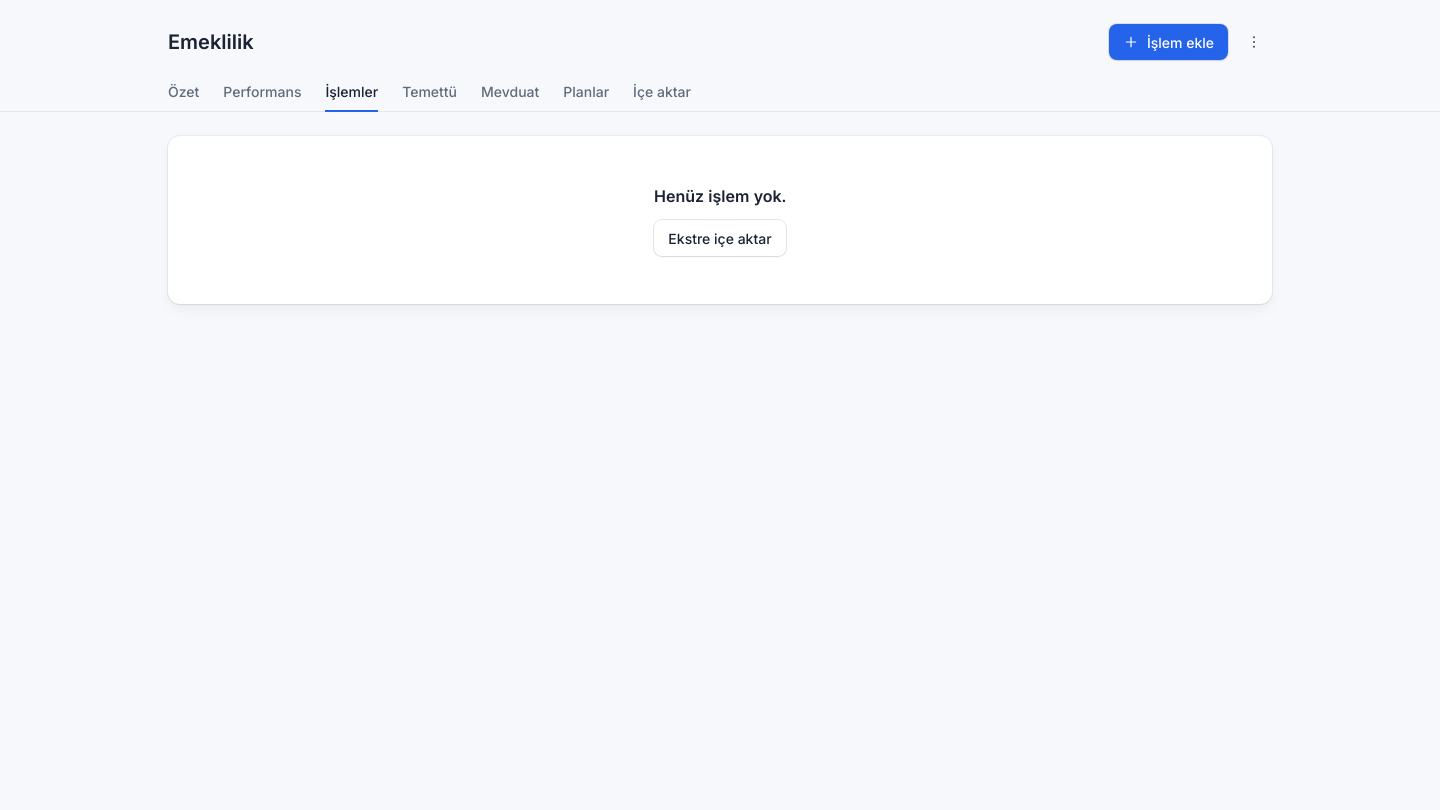
Test: TransactionsPage › submits a deposit with the selected currency
Check: the text "Henüz işlem yok." is shown, box [654,184,786,208]
Click the button "İşlem ekle" at (1168, 42), box [1109,24,1228,60]
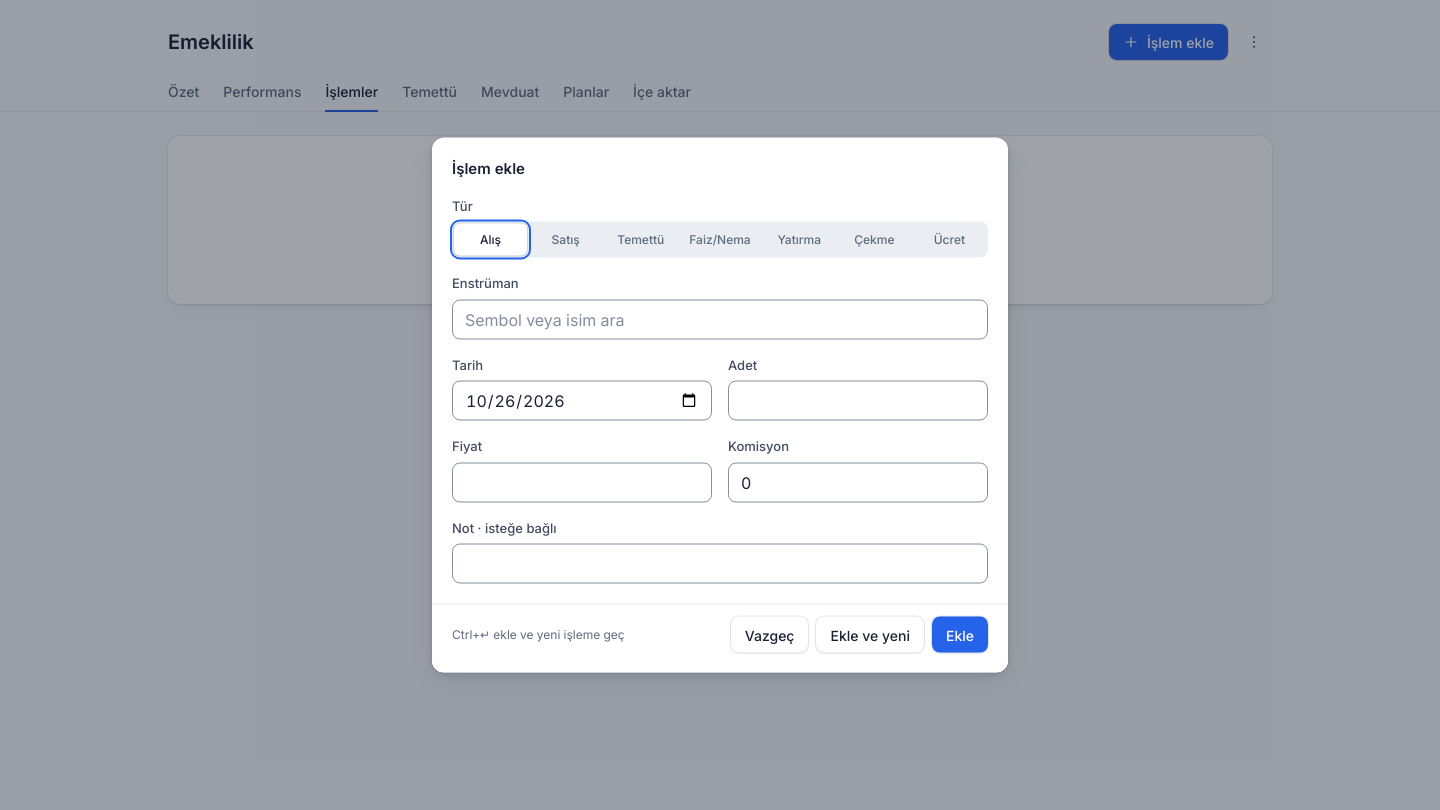
Click the radio button labelled "Yatırma" at (799, 240), box [763,224,836,256]
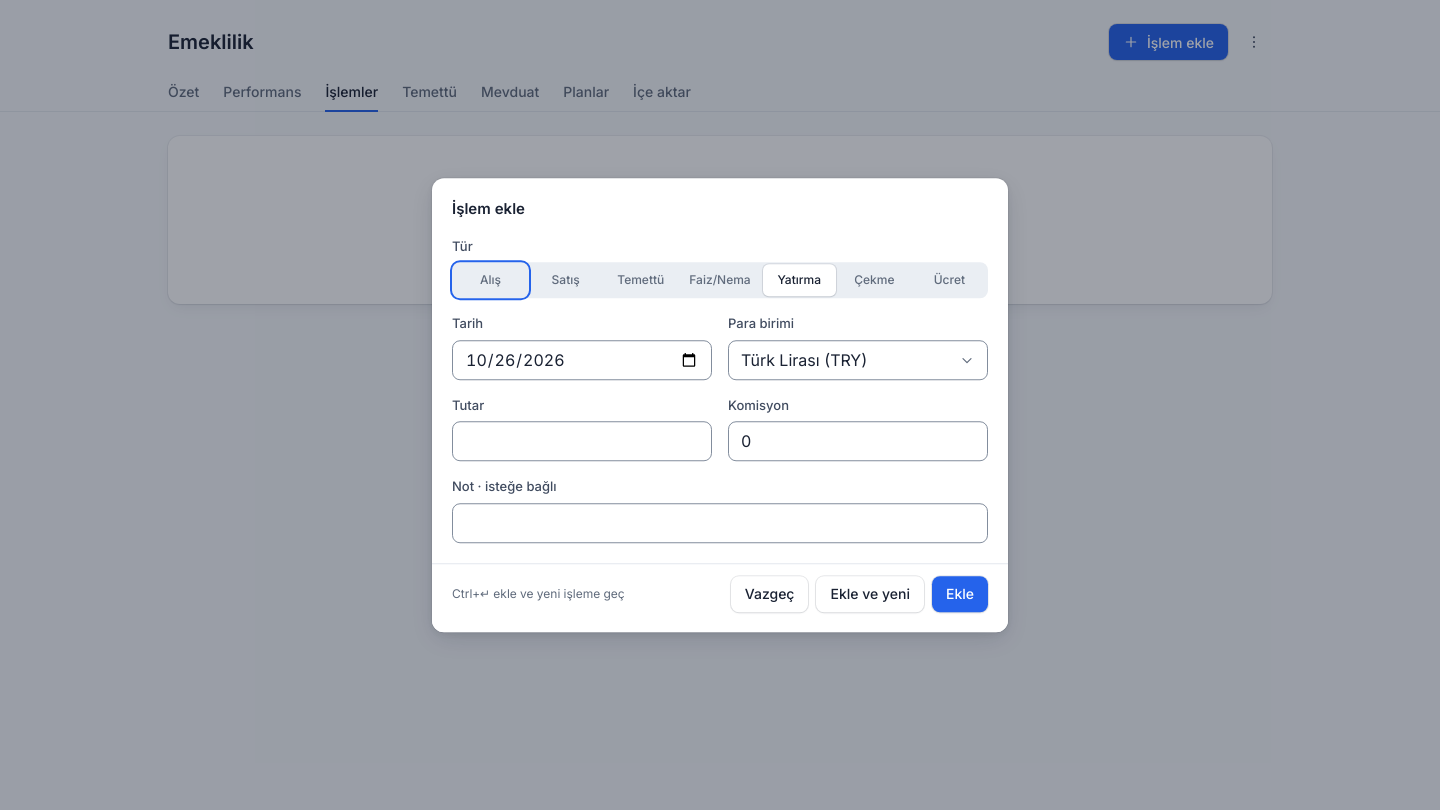
Type "500" into the field labelled "Tutar" at (582, 441), box [452,421,712,461]
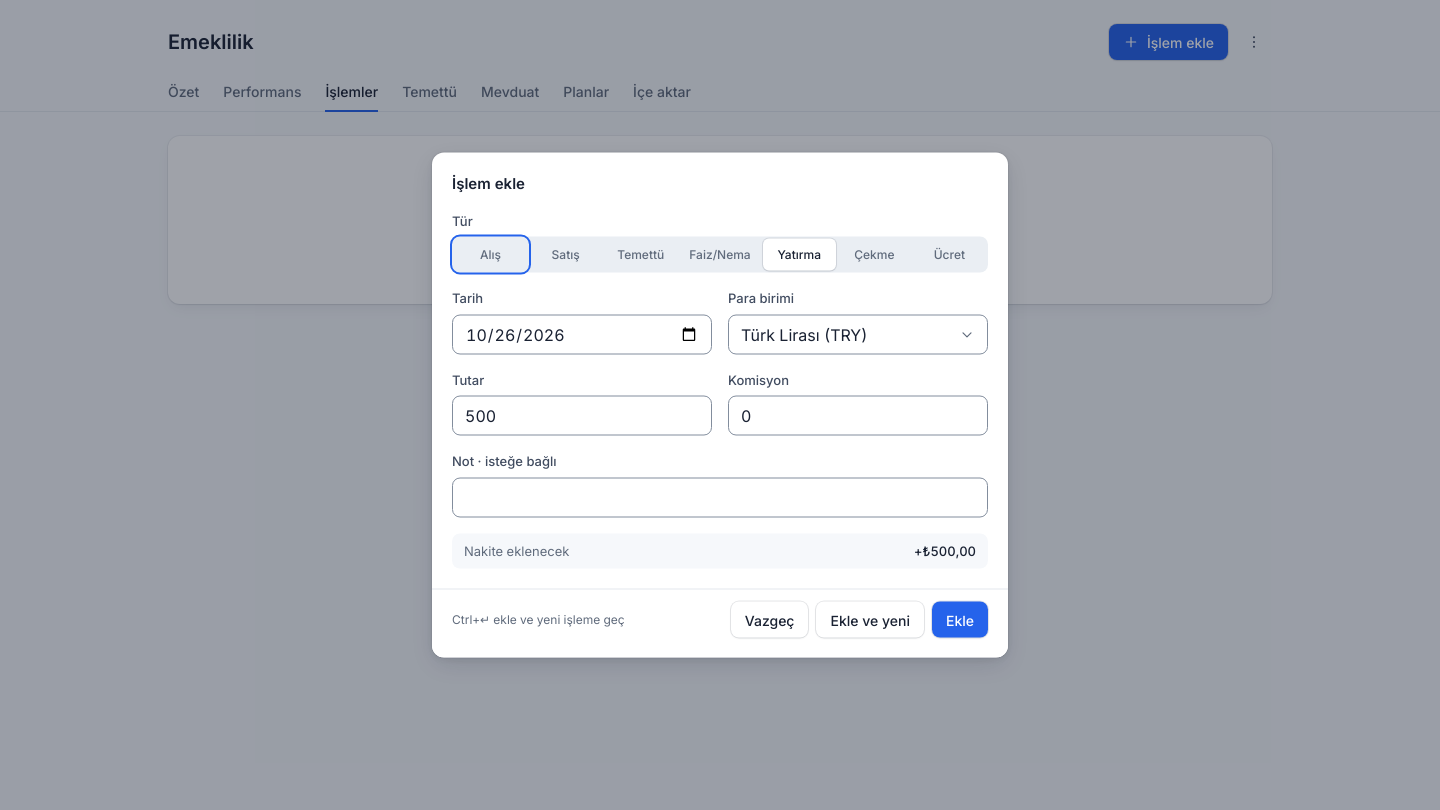
Click the dropdown named "Para birimi" at (858, 334), box [728,314,988,354]
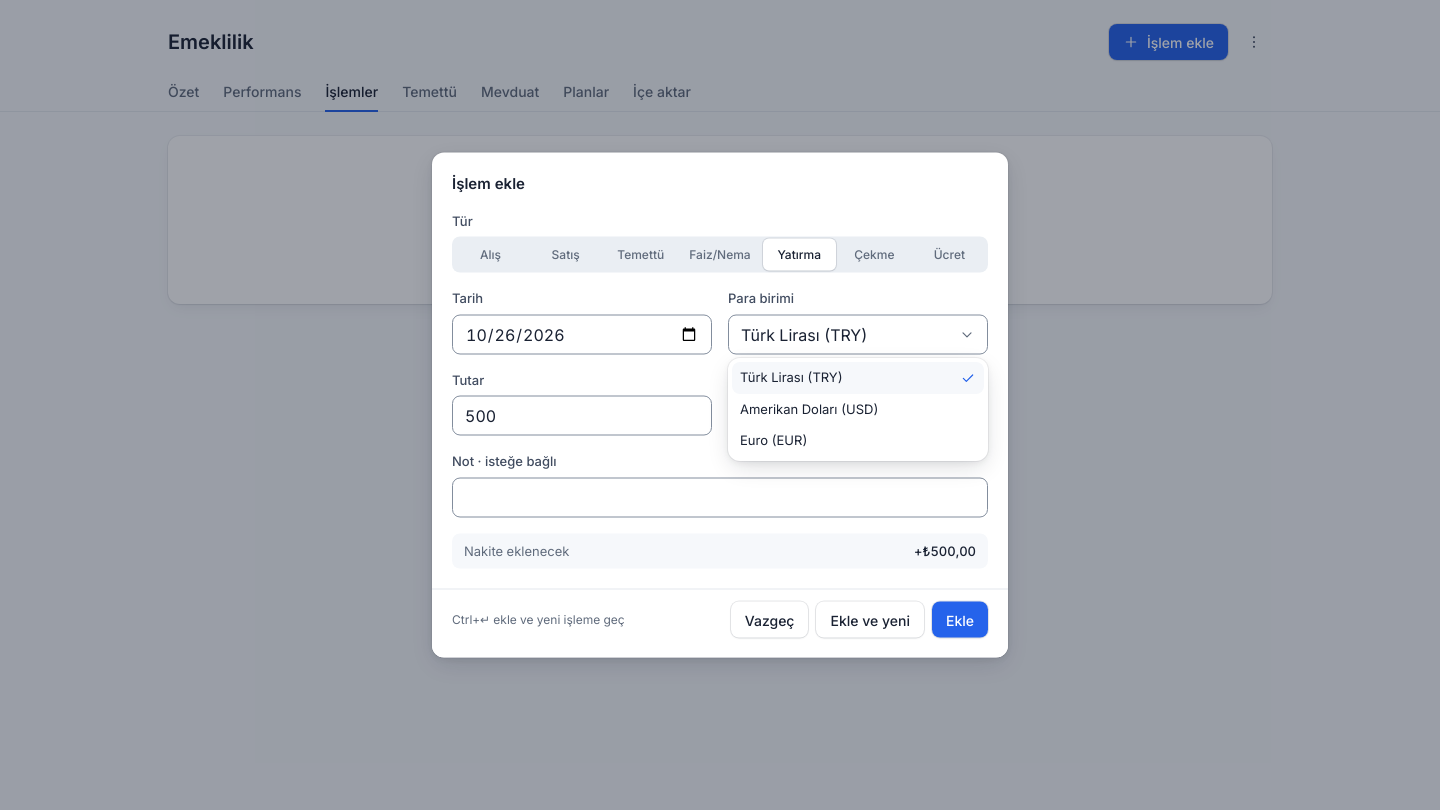
Check: the list is shown, box [732,362,984,456]
Click the option "Amerikan Doları (USD)" at (809, 408), box [740,400,879,416]
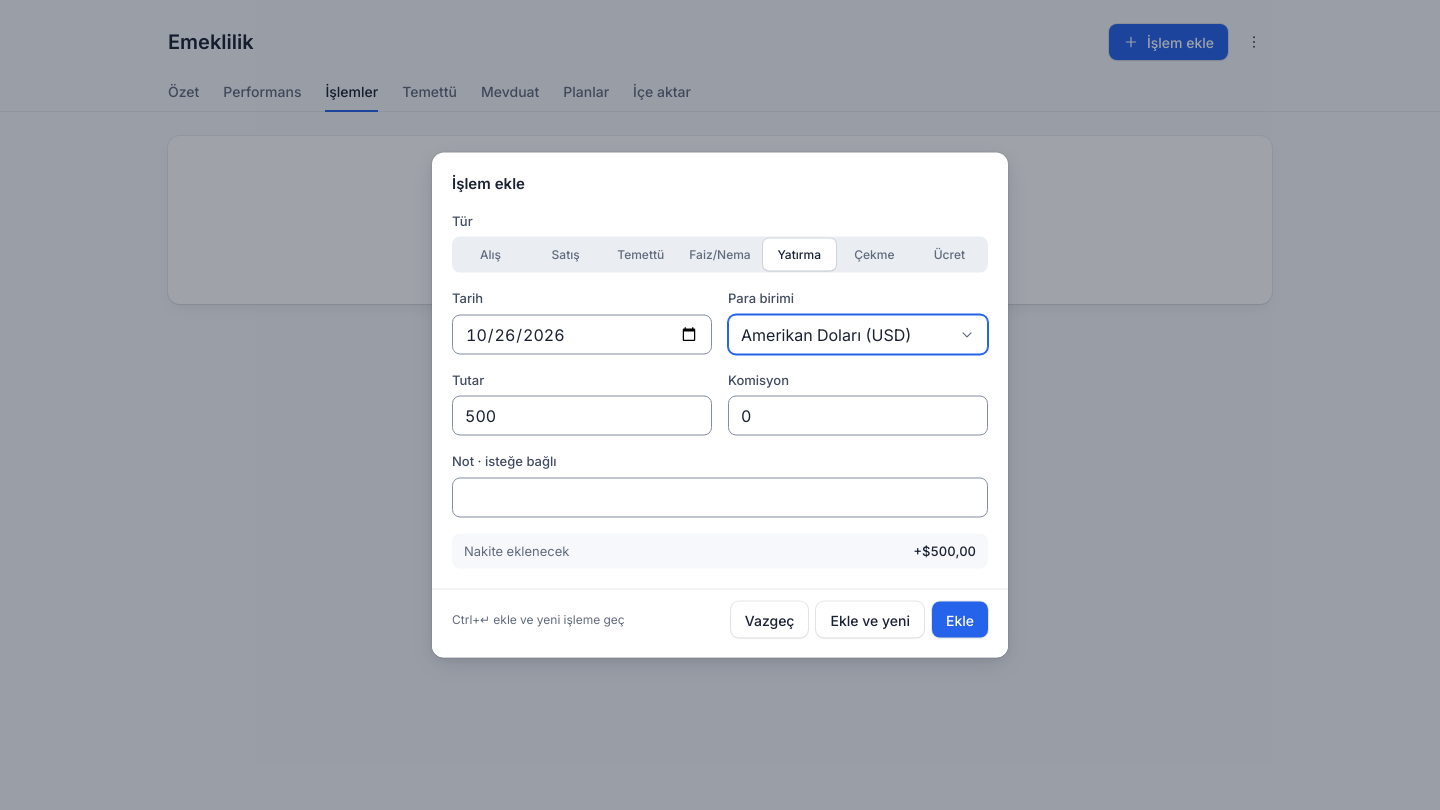
Check: the list is gone
Press Enter in the field labelled "Tutar", box [452,396,712,436]
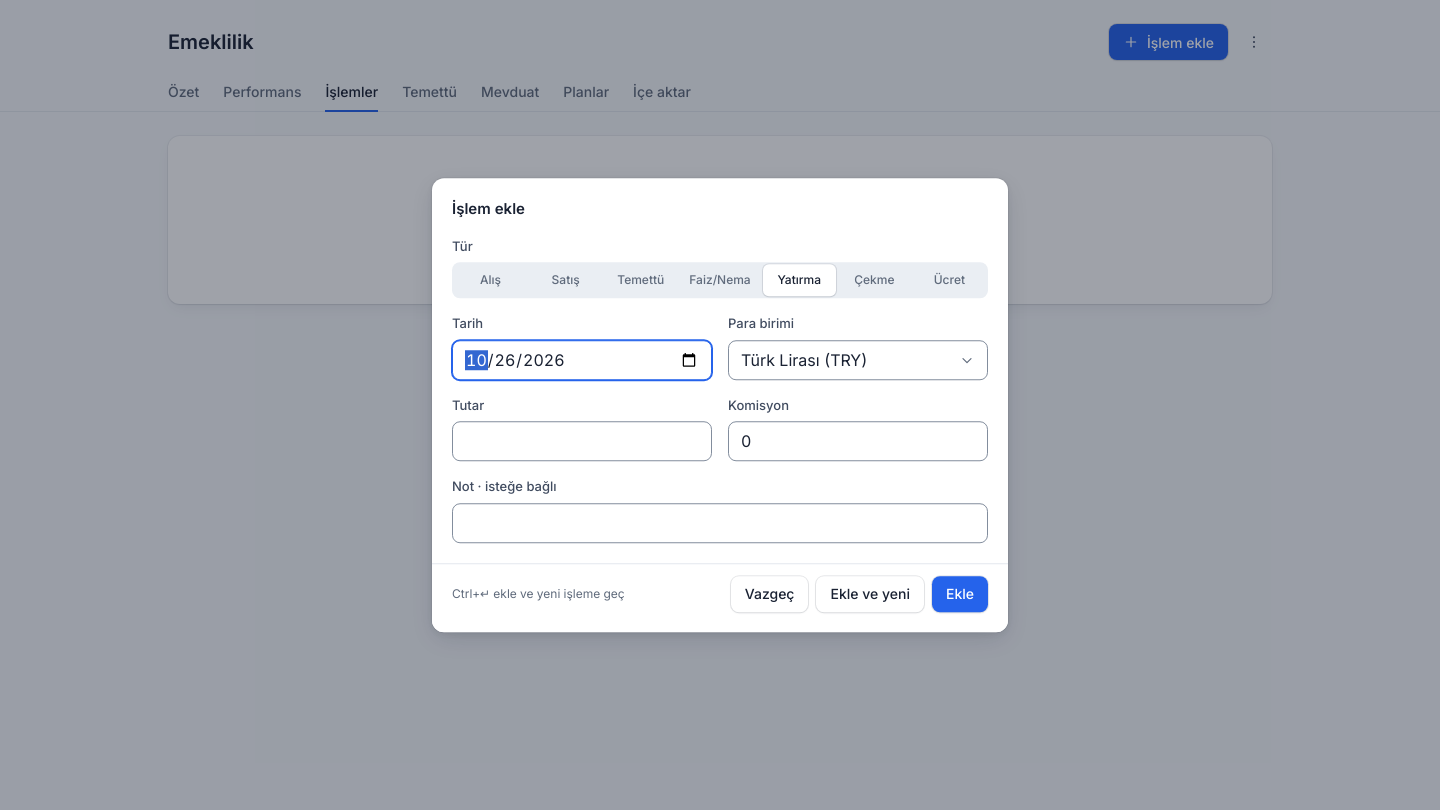
Check: the heading "İşlem ekle" is shown, box [452,199,525,218]
Check: the field labelled "Tutar" is empty, box [452,421,712,461]
